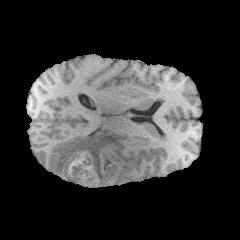glioma: (51, 129, 128, 187)
